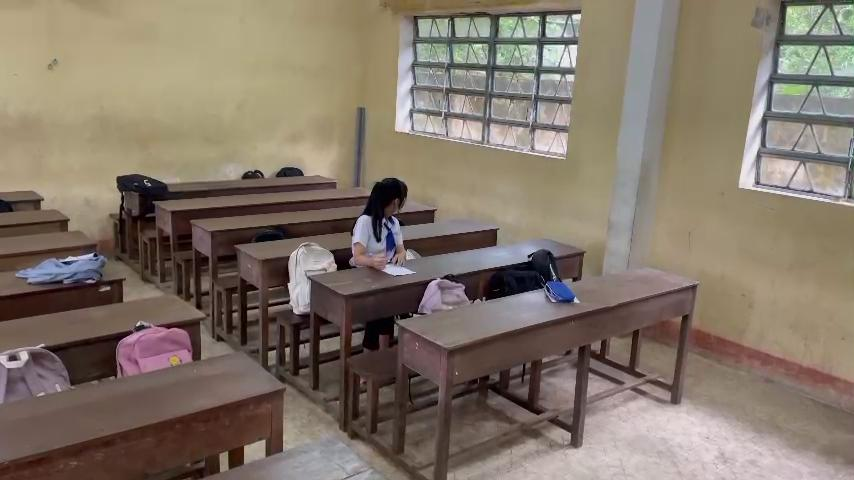Look Around: (361, 168, 411, 229)
